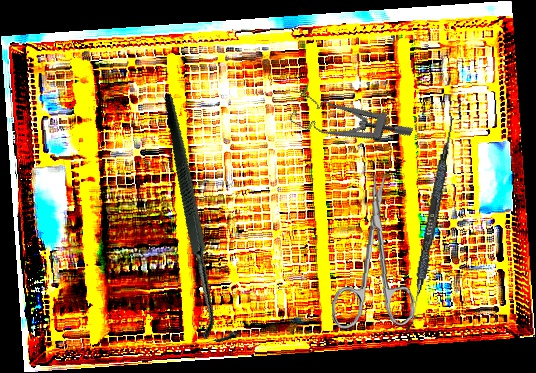Hook Surgical: (100, 93, 299, 347)
Iris Scissors: (330, 170, 424, 334)
Spatula Surgical: (406, 116, 456, 334)
Speculum: (287, 74, 415, 174)
